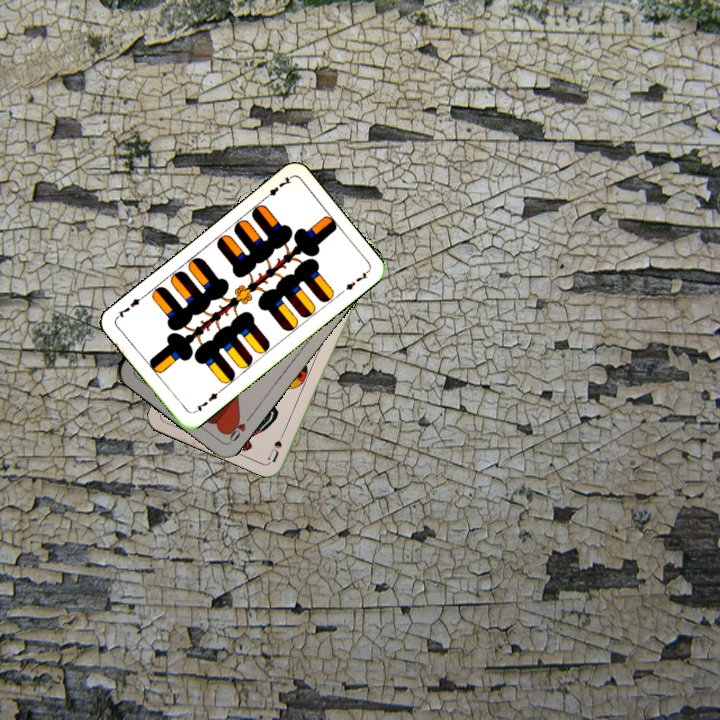E7: (189, 386, 224, 416), (259, 173, 294, 203)
HO: (222, 411, 255, 445)
SU: (264, 424, 288, 464)
